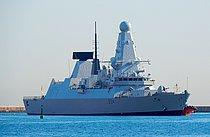MIL_Ship: (18, 18, 186, 116)
